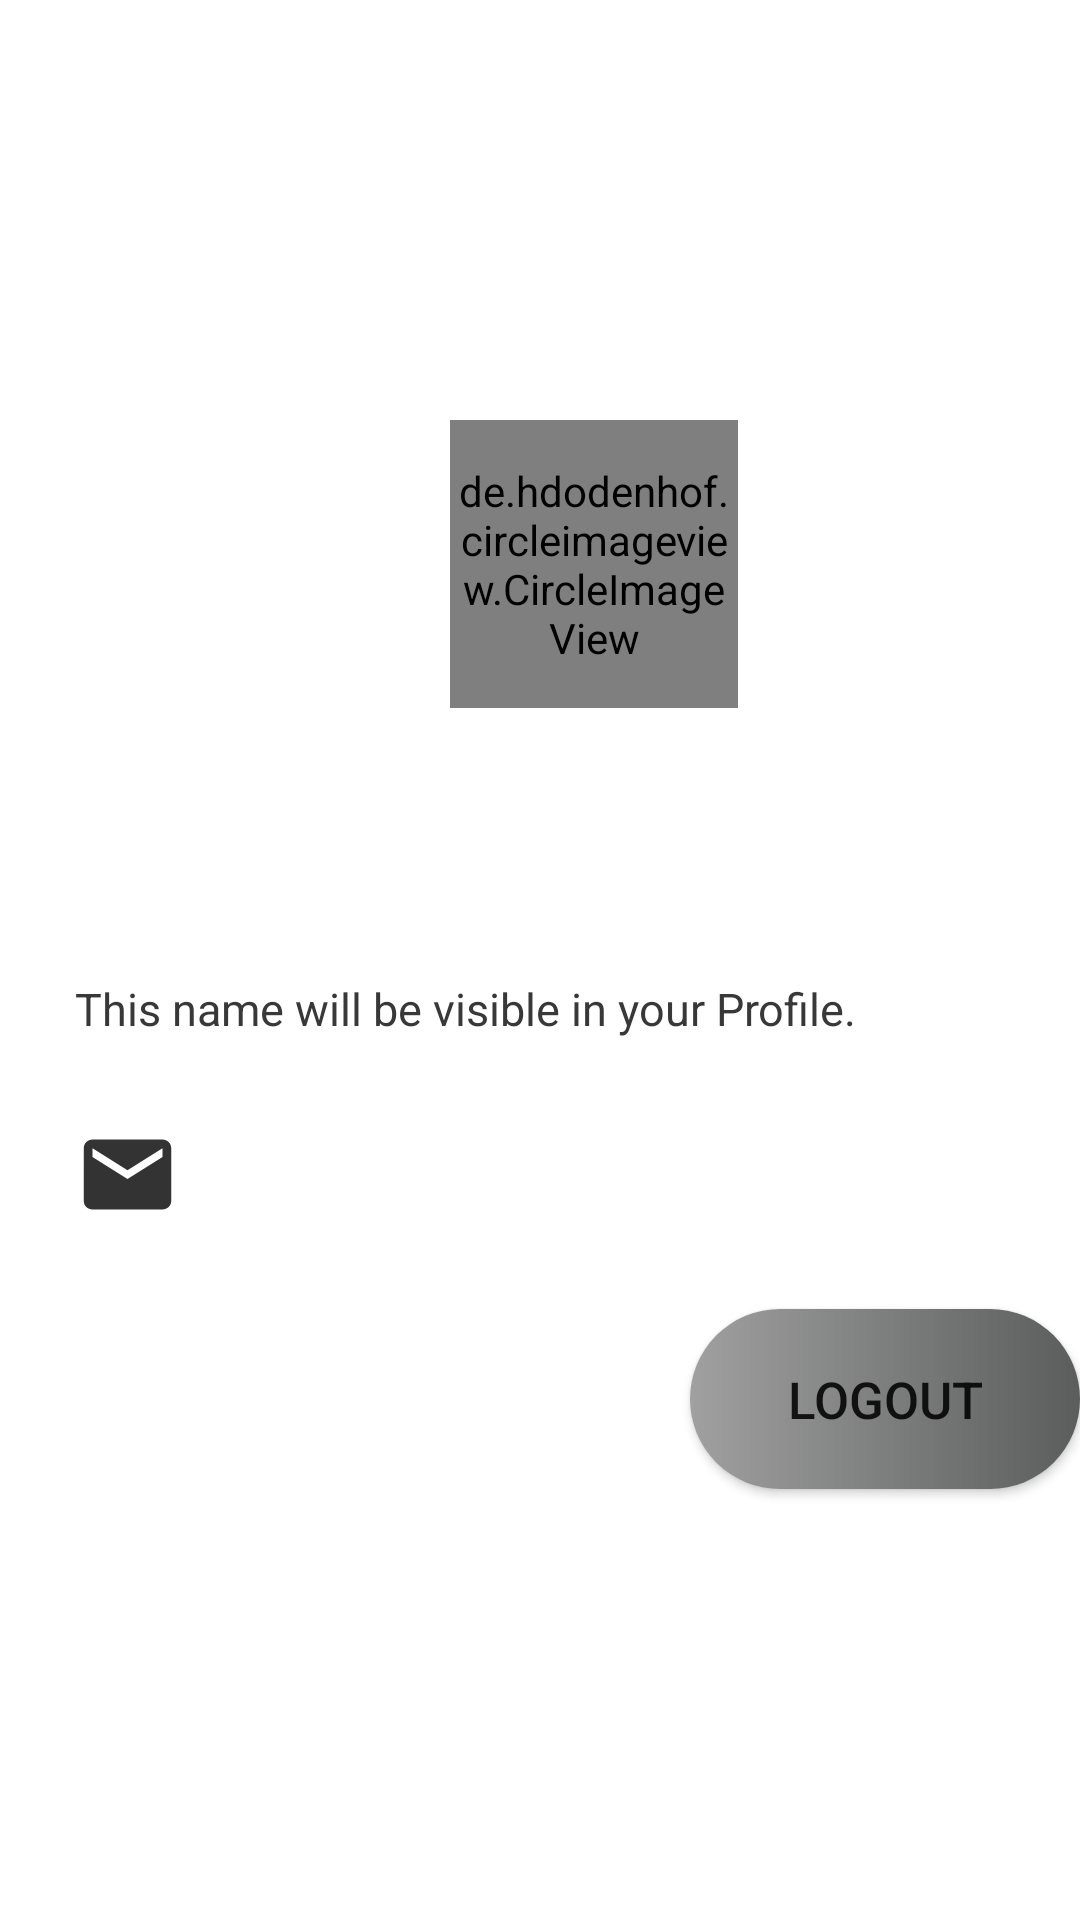

Point at icon controls on the screen. Image size 1080w x 1920h, points as (x=x, y=y).
email: (x=127, y=1174)
